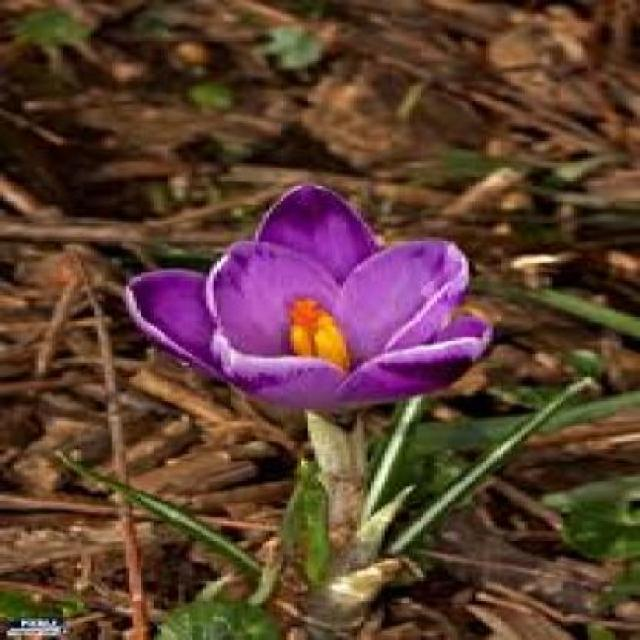saffron open: (126, 185, 492, 408)
